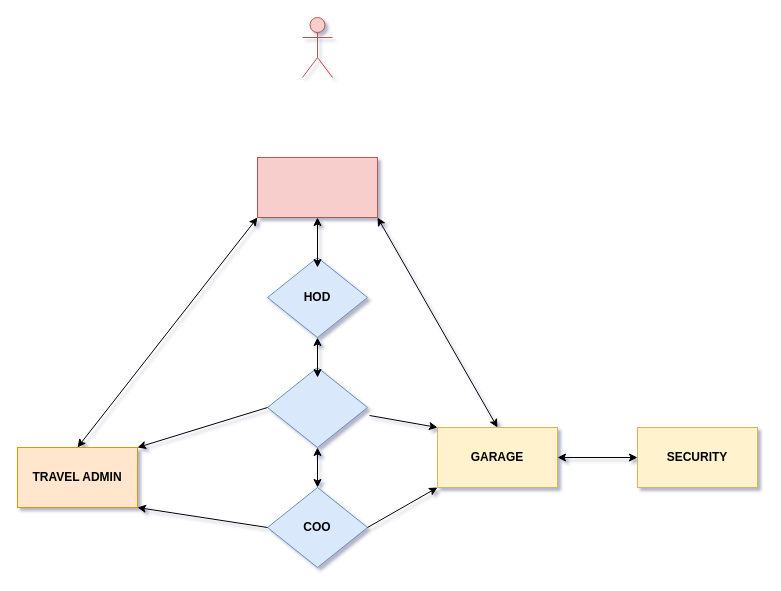
This 781x591 diagram has some shape labels left out. Here are the shapes that lost their labels. From the top down, the centre of each, then its label:
(x=317, y=47): ADMIN (CONNECTED TO EVERYONE)
(x=317, y=187): EMPLOYEE
(x=317, y=407): GM-HR
